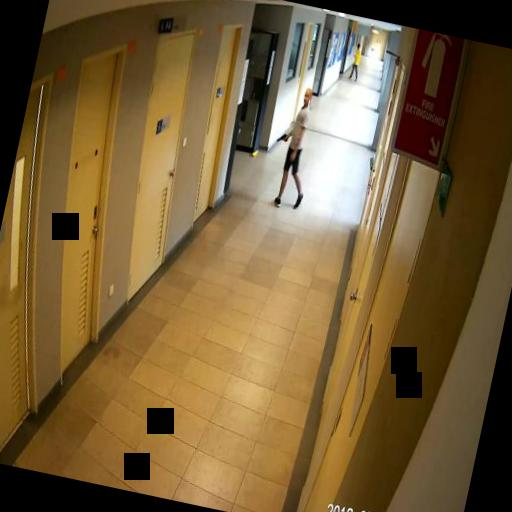Handgun: (274, 130, 286, 142)
